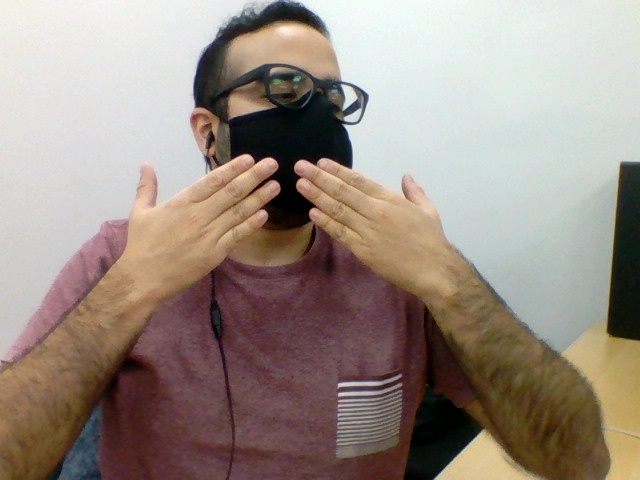ThankYou: (120, 153, 450, 299)
